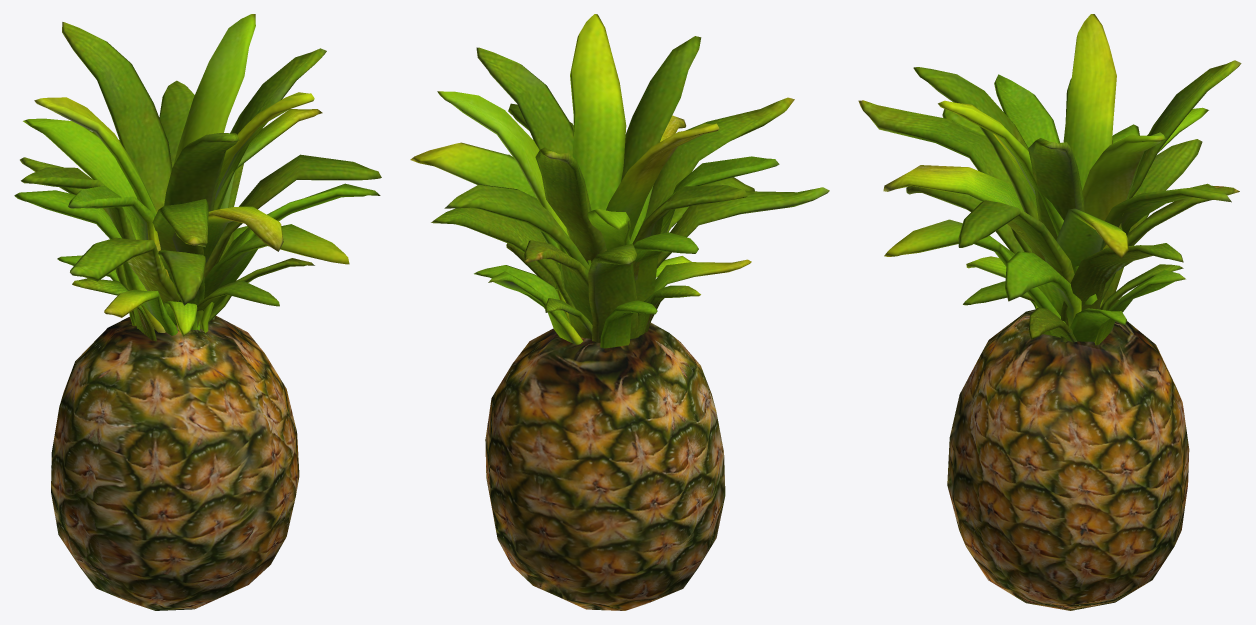
File: Pineapple.FBX
3 renders of one model, left to right at view 1: azimuth 30°, elevation 25°; view 2: azimuth 150°, elevation 25°; view 3: azimuth 270°, elevation 25°, orthographic. The views are drawn at different scales.
Parts seen in each view (by area): view 1: Pineapple; view 2: Pineapple; view 3: Pineapple.
Boxes of the visible parts, box(x1,y1,x2,y2) form: Pineapple: box(14, 14, 381, 610); Pineapple: box(410, 14, 829, 610); Pineapple: box(858, 14, 1241, 610).
Bounding box in the file's own units: 6.84 × 10.19 × 6.6.
